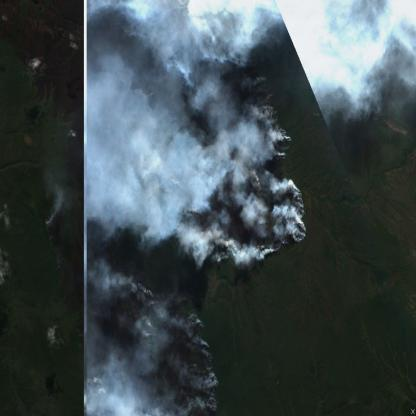fire: (124, 69, 310, 267), (87, 305, 221, 416)
